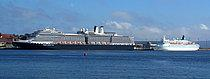Ship: (9, 25, 142, 53)
